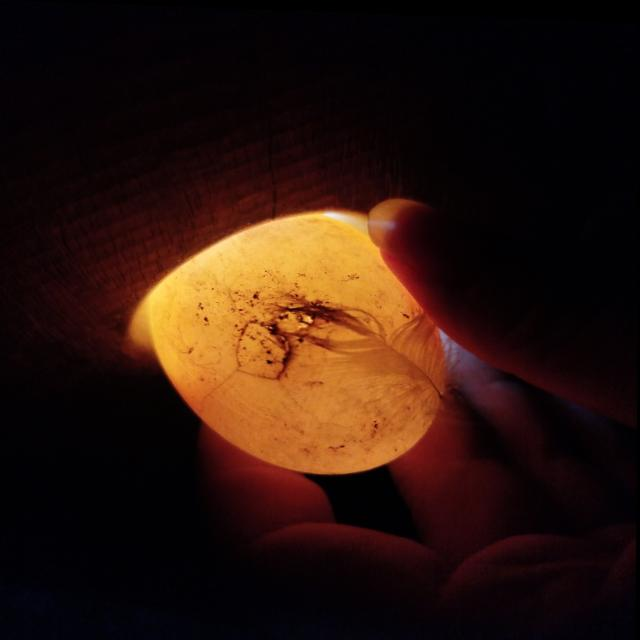Rachadura: (238, 321, 290, 377)
